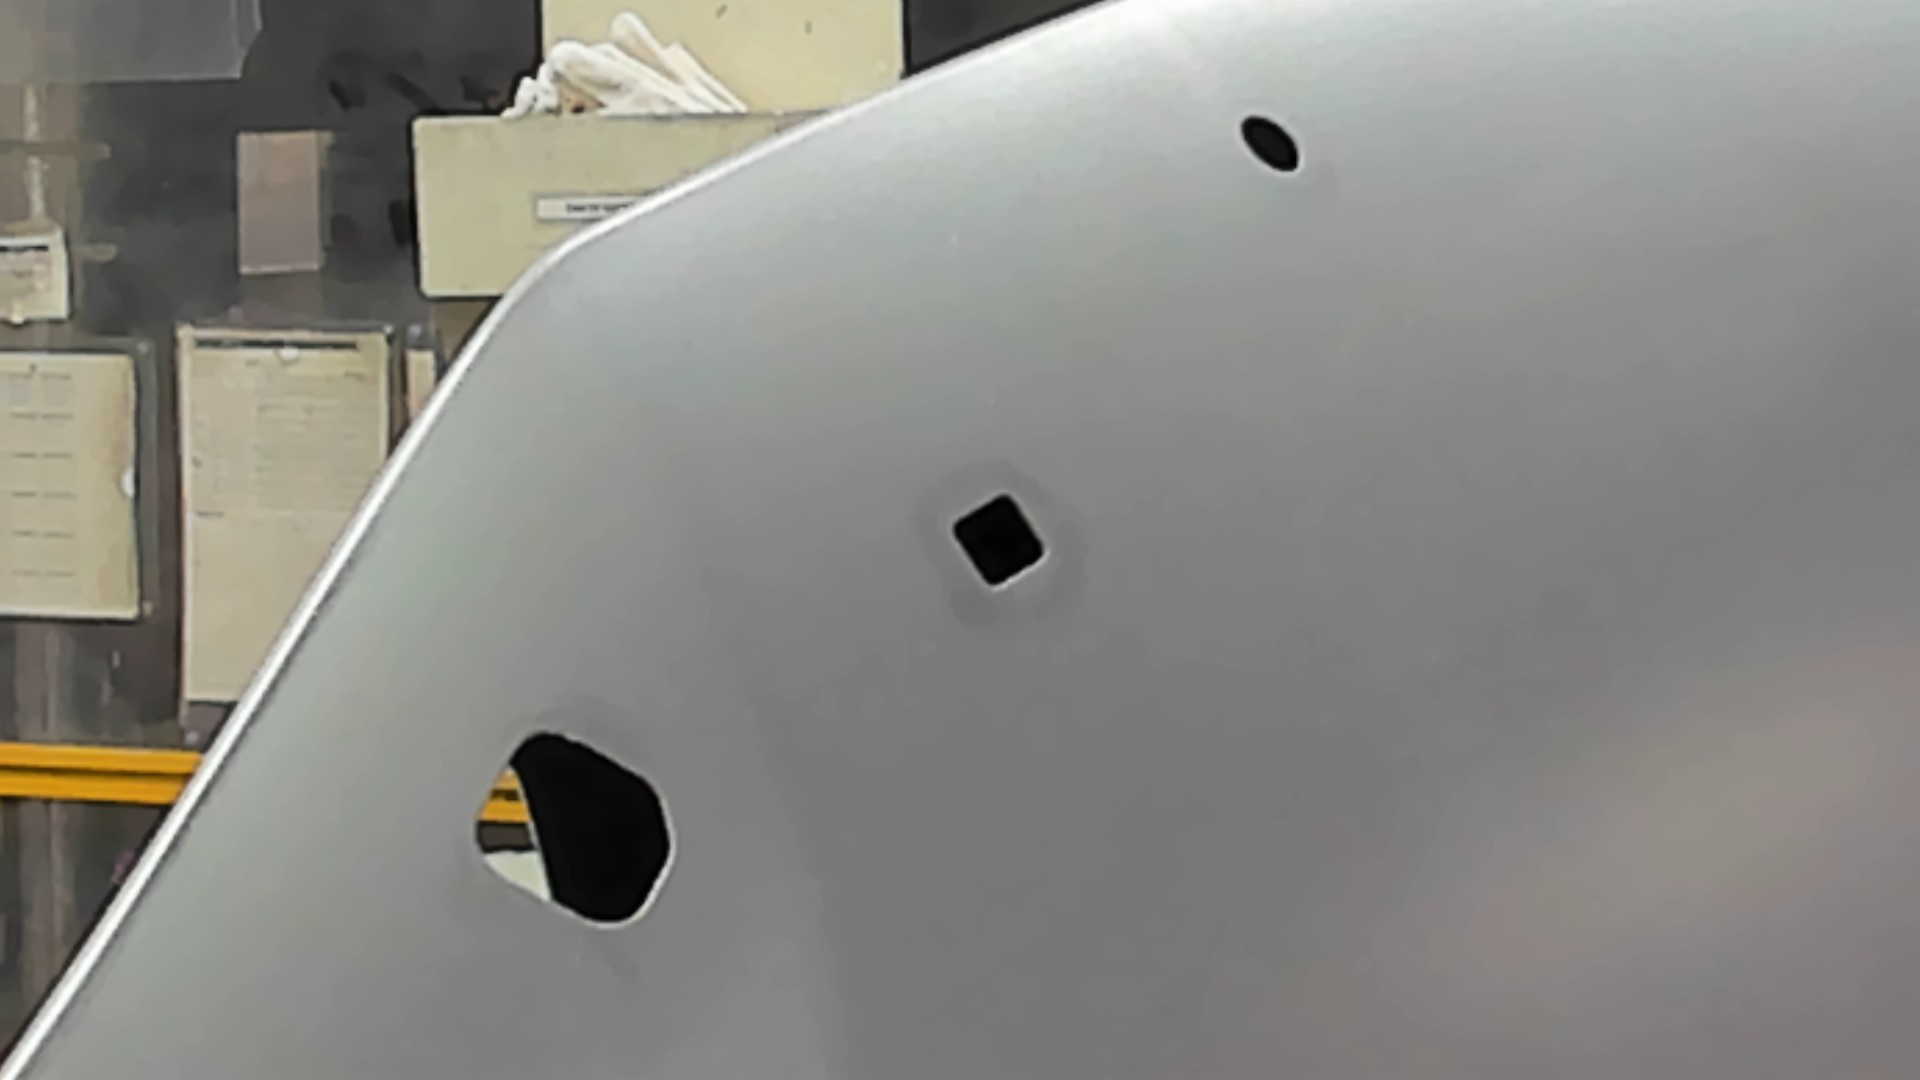chico: (1234, 109, 1304, 178)
grande: (469, 727, 684, 935)
mediano: (945, 487, 1048, 595)
